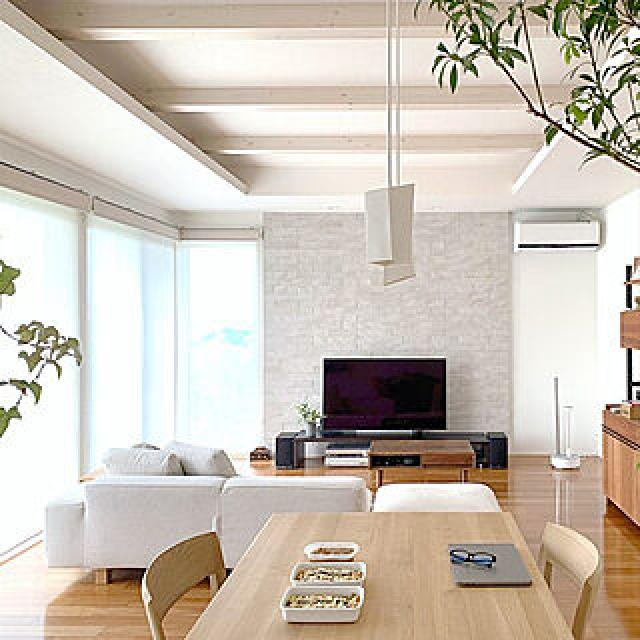natural desk: (178, 494, 574, 640)
